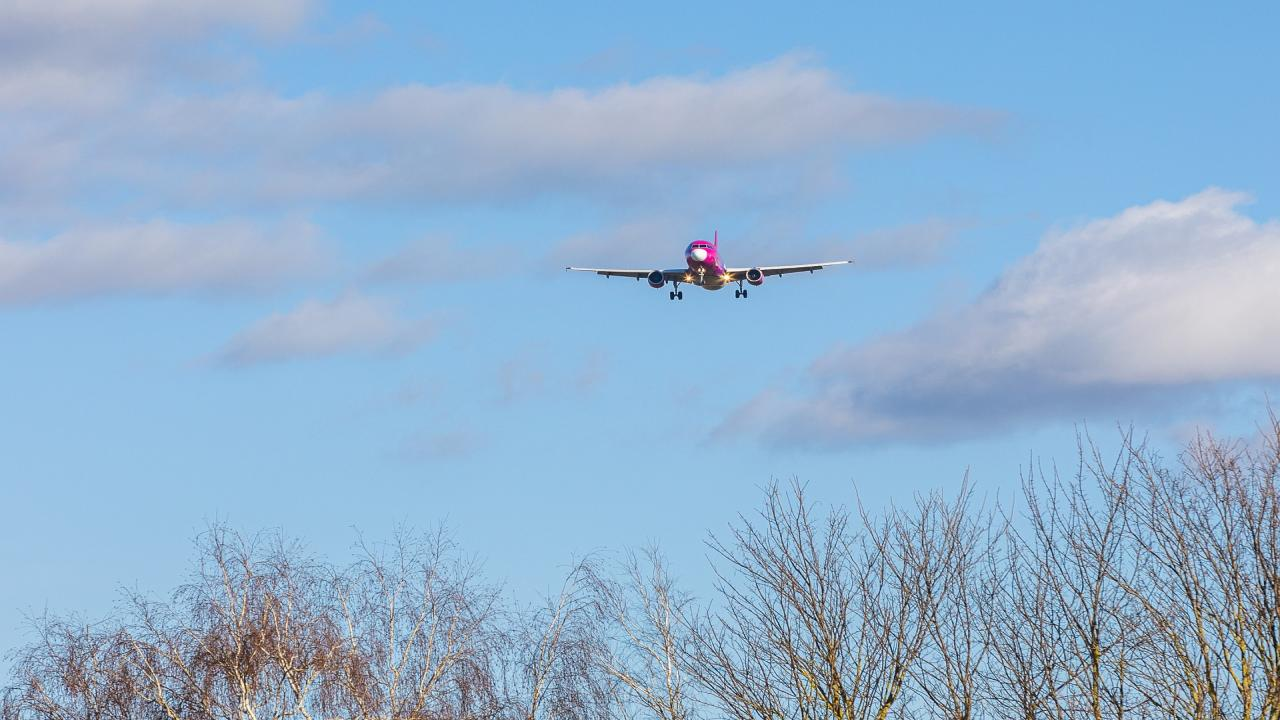Airplane: (551, 223, 869, 312)
